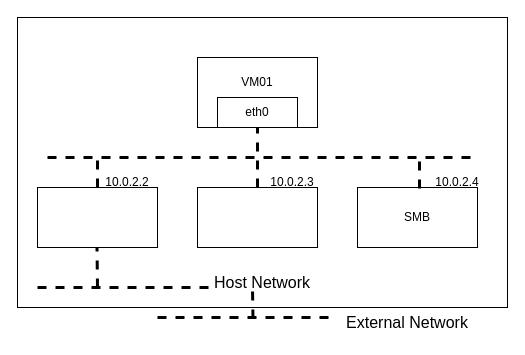
The diagram is 525 pixels wide and 355 high, and some of its shapes have lost their labels. The centre of each missing label's shape, as x and y in pixels:
"DNCP (Gateway)" belongs at point 97,217.
"DNS" belongs at point 257,217.
